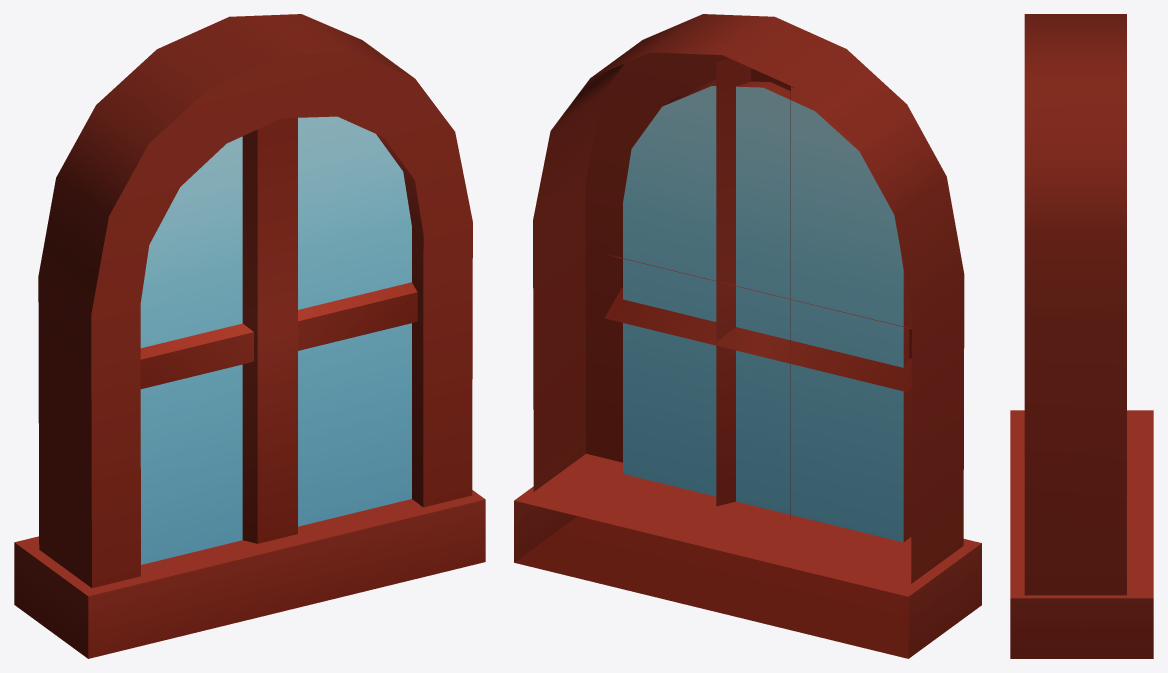
Rendered from Window_01A.fbx.
The picture shows the model from 3 angles, left to right: view 1: azimuth 30°, elevation 25°; view 2: azimuth 150°, elevation 25°; view 3: azimuth 270°, elevation 25°; orthographic projection. The views are drawn at different scales.
Parts seen in each view (by area): view 1: Window_01A; view 2: Window_01A; view 3: Window_01A.
Boxes of the visible parts, x1,y1,x2,y2 form: Window_01A: [14, 14, 485, 658]; Window_01A: [514, 14, 981, 658]; Window_01A: [1010, 14, 1153, 658].
Bounding box in the file's own units: 113 × 149 × 36.42.
2 materials, 2 textured.
